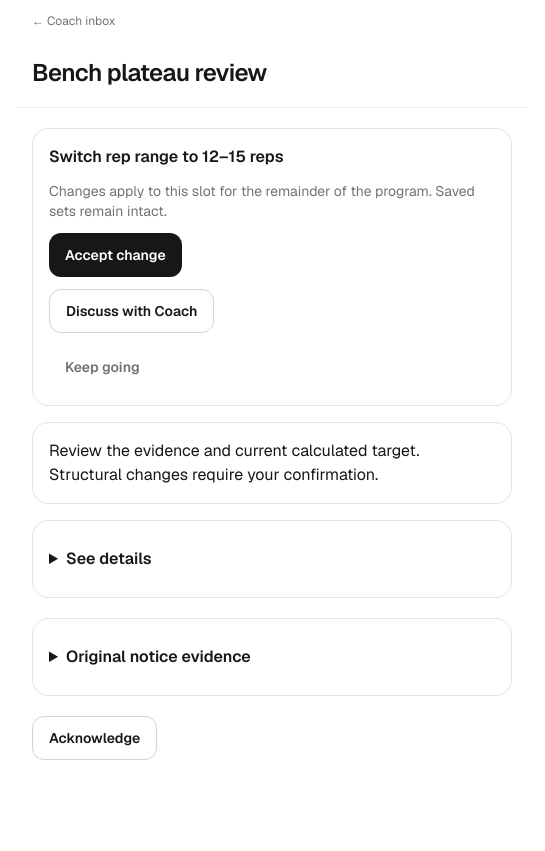
it: puts a scoped recommendation and direct acceptance on the notice without starting chat
This screenshot has width=545, height=851.
Click the button "Accept change". click: [115, 255]
box: [49,233,182,277]
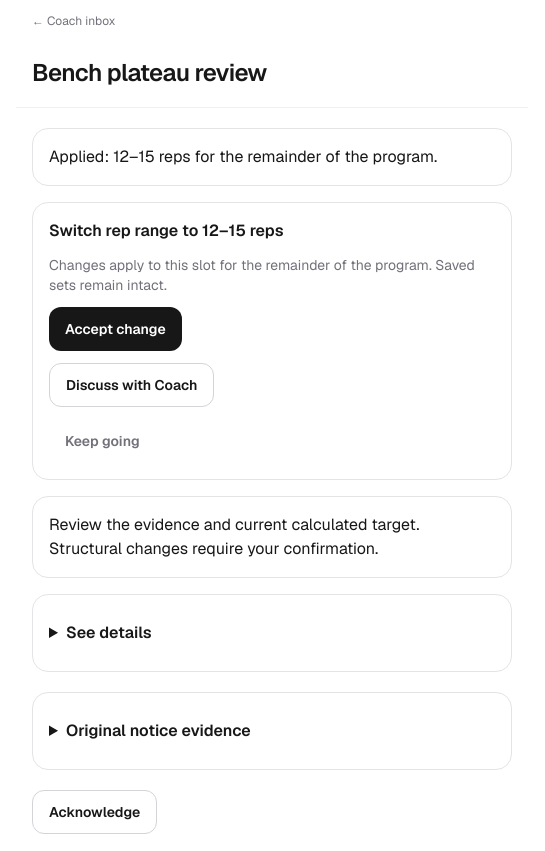
Result: the text "Applied: 12–15 reps" is shown at [49,146,437,167]
